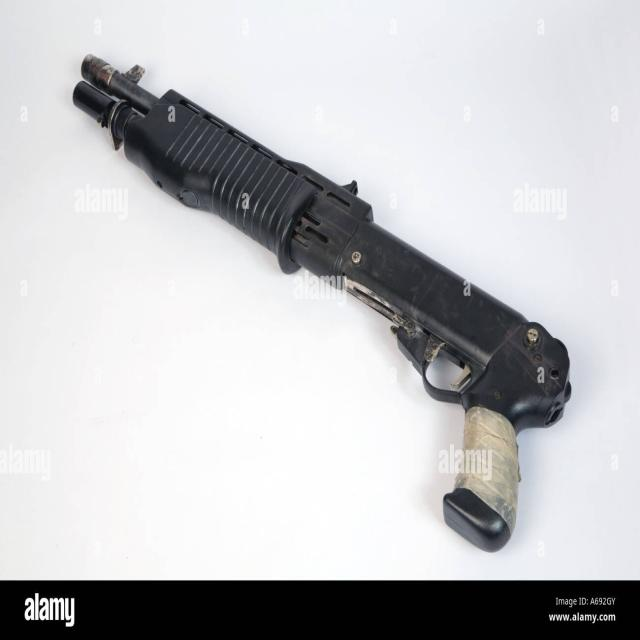ShotGun: (72, 57, 573, 546)
